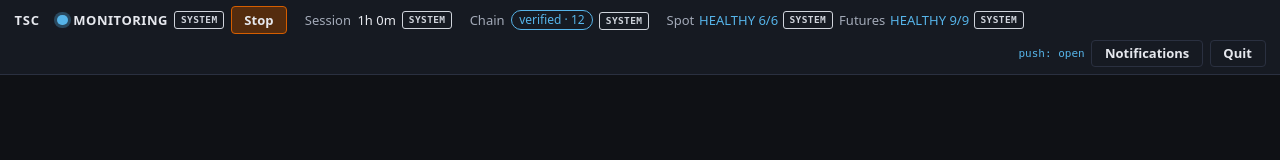
Test case: StatusBar › reports an unclean close truthfully
This screenshot has width=1280, height=160.
Click the button "Quit".
click(1238, 54)  # box [1210, 40, 1266, 67]
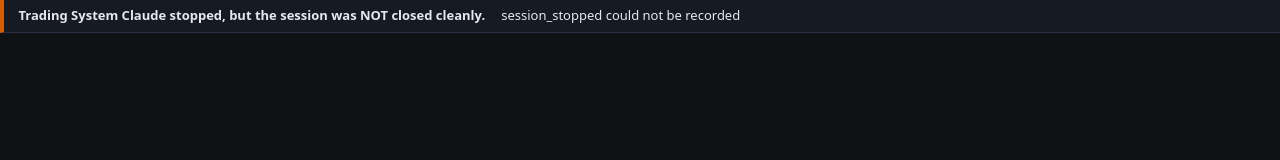
Now the text with test id "ended-title" shows "NOT closed cleanly", box [18, 6, 485, 24]
Now the text with test id "ended-body" reads "session_stopped could not be recorded", box [501, 6, 740, 24]
